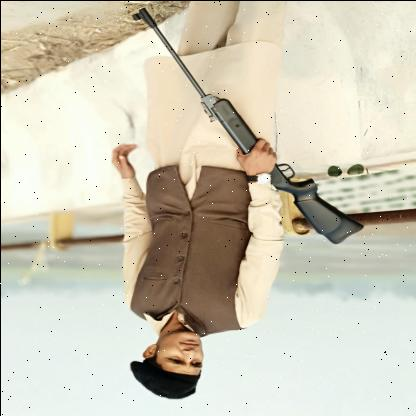rifle: (129, 4, 365, 245)
